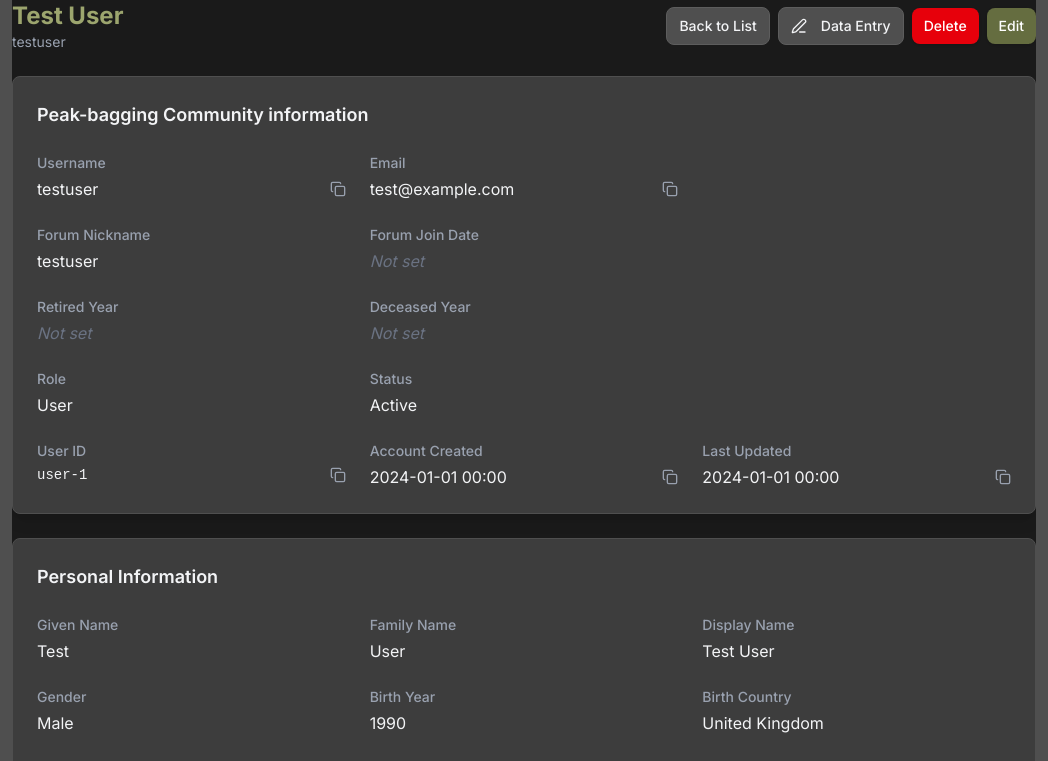
Test case: UserProfile › shows password management section in edit mode
Click the button "Edit".
click(1011, 26)  # box [987,8,1036,44]
(page scrolled)
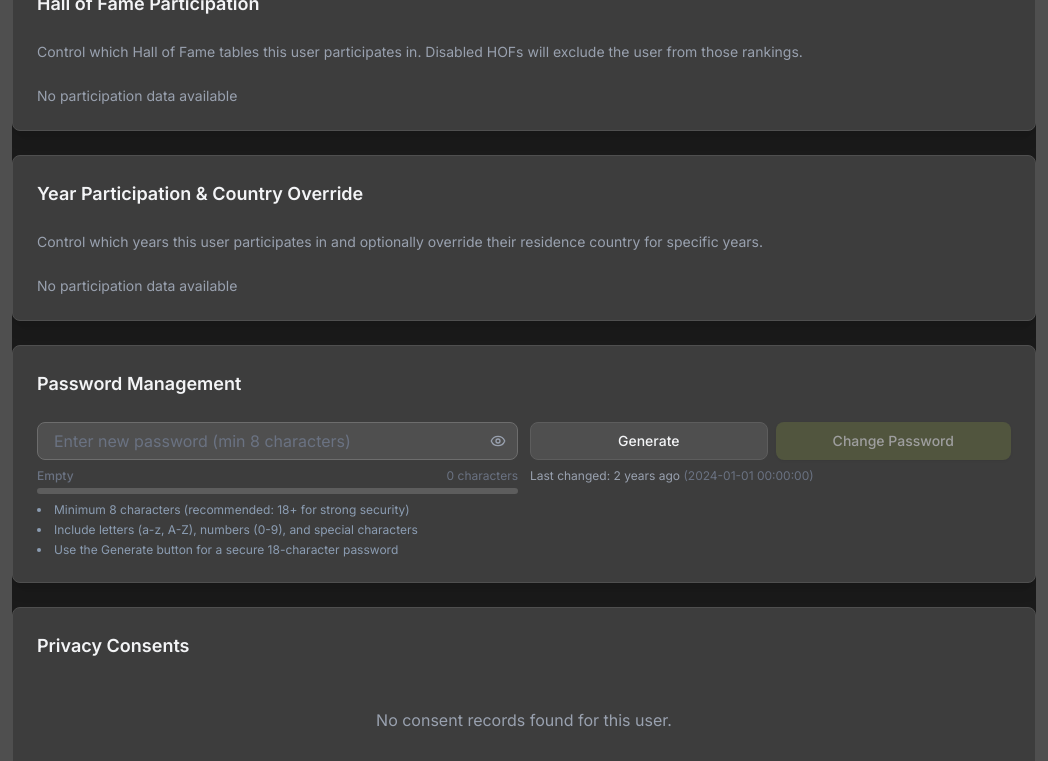
Expected: the heading "Password Management" is shown, [37,373,241,394]
